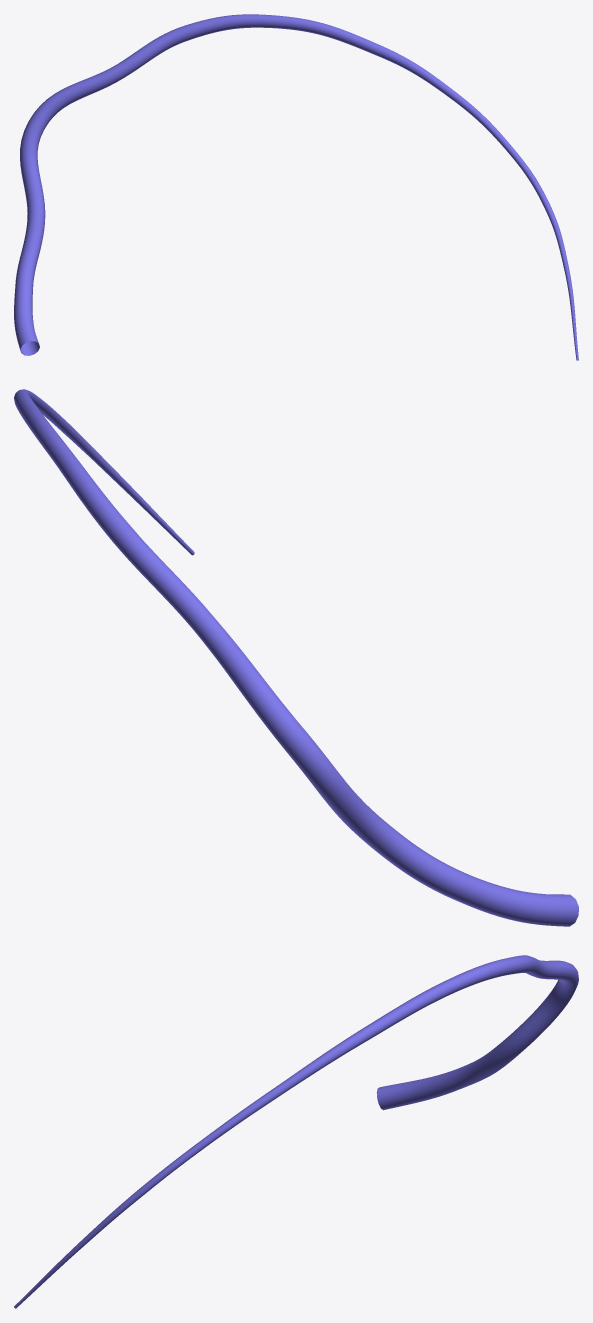
Rendered from Iliolumbar_vein.l_BezierCurve.307.glb.
The picture shows the model from 3 angles, top to bottom: view 1: azimuth 30°, elevation 25°; view 2: azimuth 150°, elevation 25°; view 3: azimuth 270°, elevation 25°; orthographic projection. The views are drawn at different scales.
Visible parts, largest first — view 1: Iliolumbar_vein.l_BezierCurve.307; view 2: Iliolumbar_vein.l_BezierCurve.307; view 3: Iliolumbar_vein.l_BezierCurve.307.
Part boxes in pixels (bbox=[...]): Iliolumbar_vein.l_BezierCurve.307: bbox=[14, 14, 578, 360]; Iliolumbar_vein.l_BezierCurve.307: bbox=[14, 389, 578, 926]; Iliolumbar_vein.l_BezierCurve.307: bbox=[14, 955, 578, 1308].
Bounding box in the file's own units: 0.0959 × 0.054 × 0.0958.
